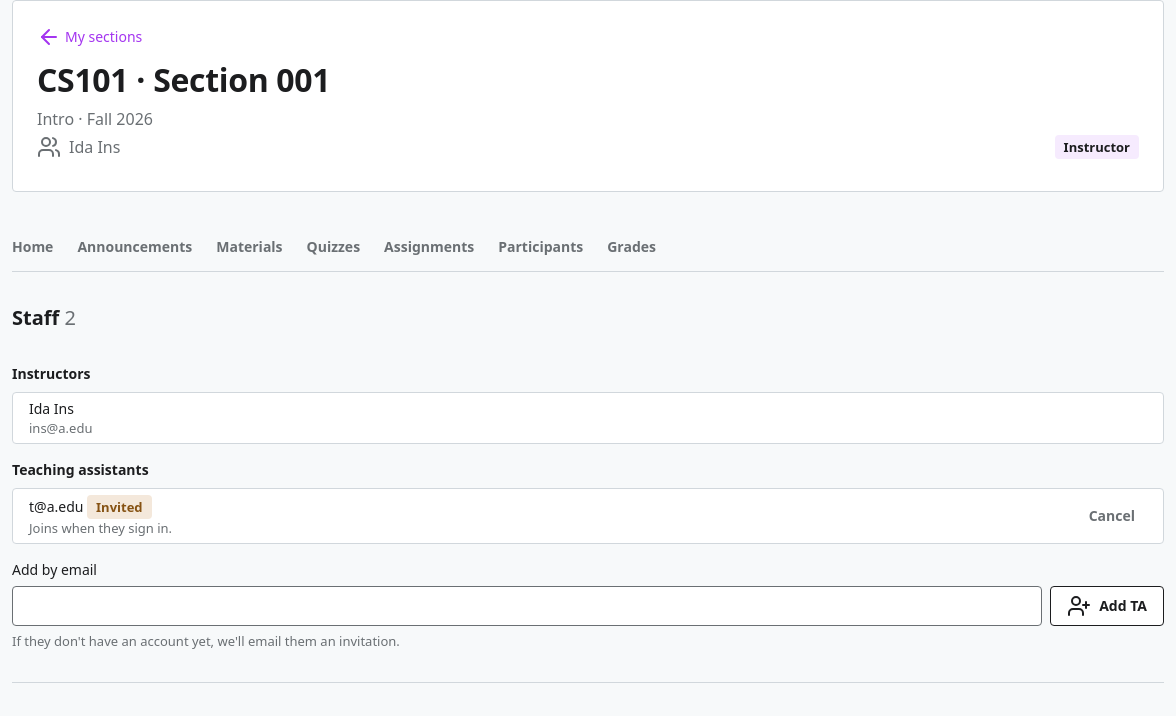
says Already cancelled on 404
Click the button with aria-label "Cancel invitation for t@a.edu" at [1112, 516], box [1077,500,1147,532]
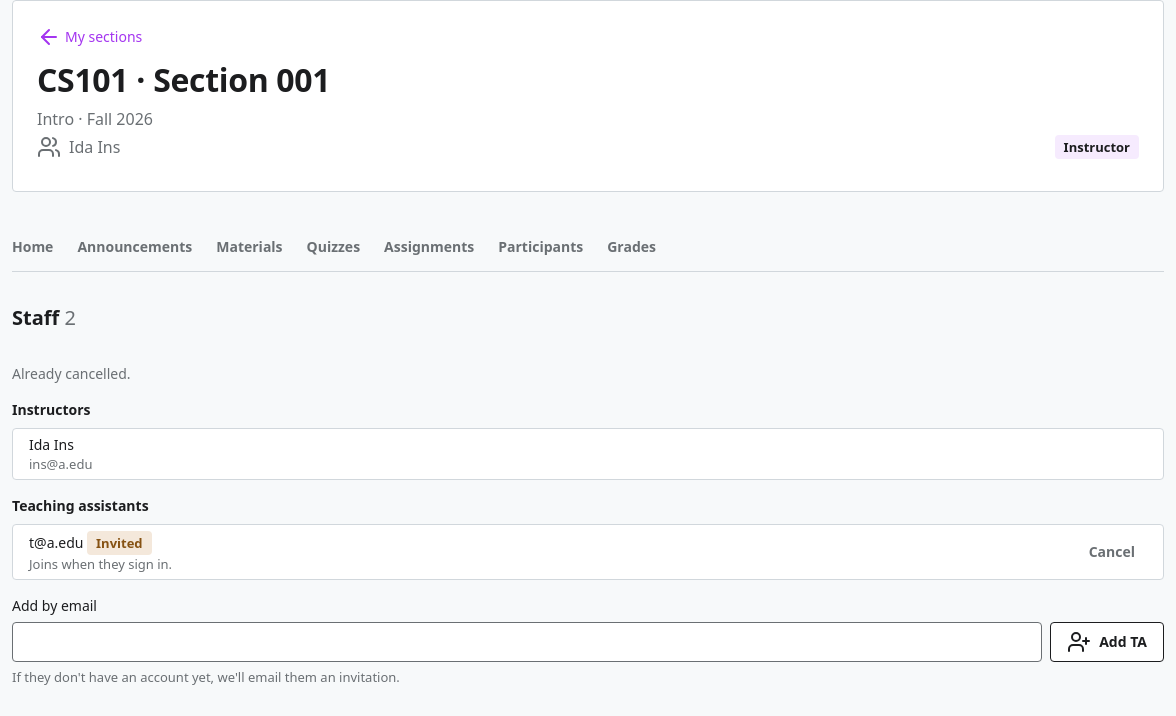
Now the text "Already cancelled." is shown, box [12,364,130,383]
